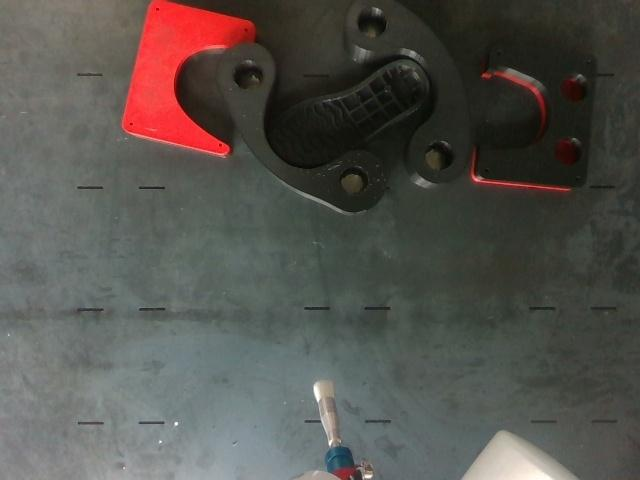shoes: (271, 61, 428, 163)
